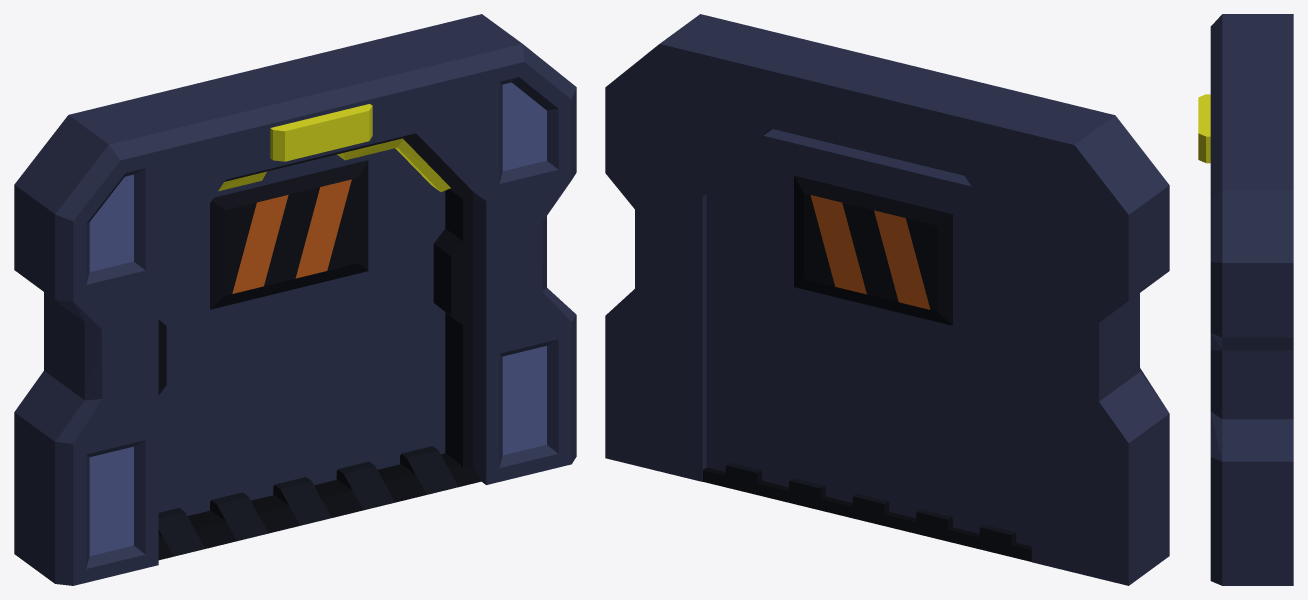
The model's file is ScifiDoor.FBX.
The picture shows the model from 3 angles, left to right: view 1: azimuth 30°, elevation 25°; view 2: azimuth 150°, elevation 25°; view 3: azimuth 270°, elevation 25°; orthographic projection. The views are drawn at different scales.
Visible parts, largest first — view 1: ScifiDoor_Out, ScifiDoor_Inner; view 2: ScifiDoor_Out, ScifiDoor_Inner; view 3: ScifiDoor_Out.
Part boxes in pixels (x1,y1,x2,y2): ScifiDoor_Out: (14,14,576,585); ScifiDoor_Inner: (158,148,445,515); ScifiDoor_Out: (605,14,1169,585); ScifiDoor_Inner: (706,129,1031,546); ScifiDoor_Out: (1198,14,1293,585).
Bounding box in the file's own units: 86.64 × 67.64 × 15.65.
